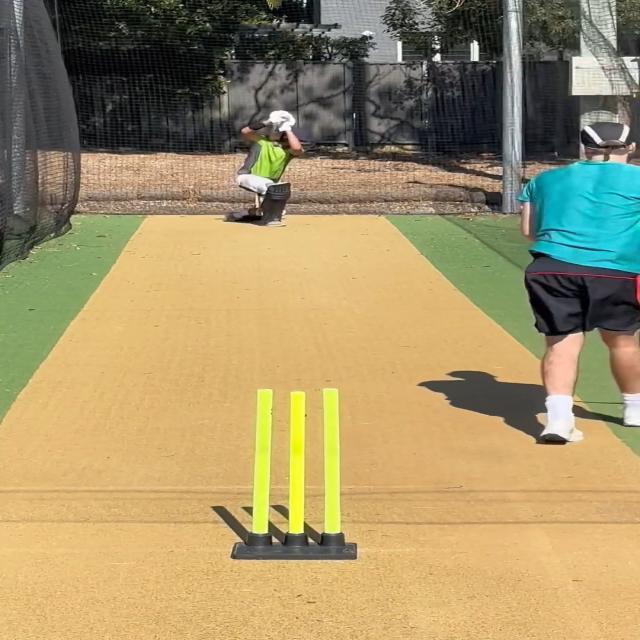stump: (230, 385, 362, 560)
